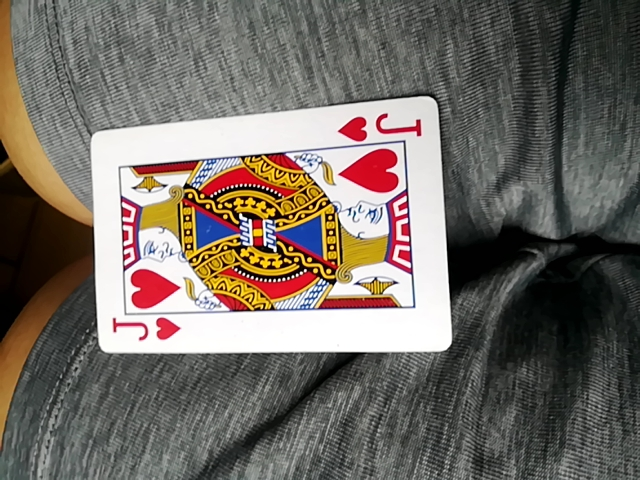hx j: (92, 97, 451, 357)
